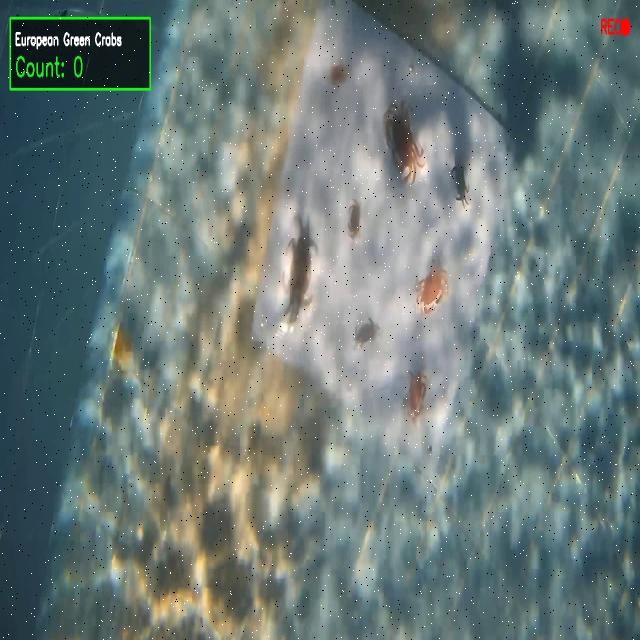European_Green_Crab: (282, 212, 321, 329), (447, 151, 476, 213), (352, 313, 380, 353)
